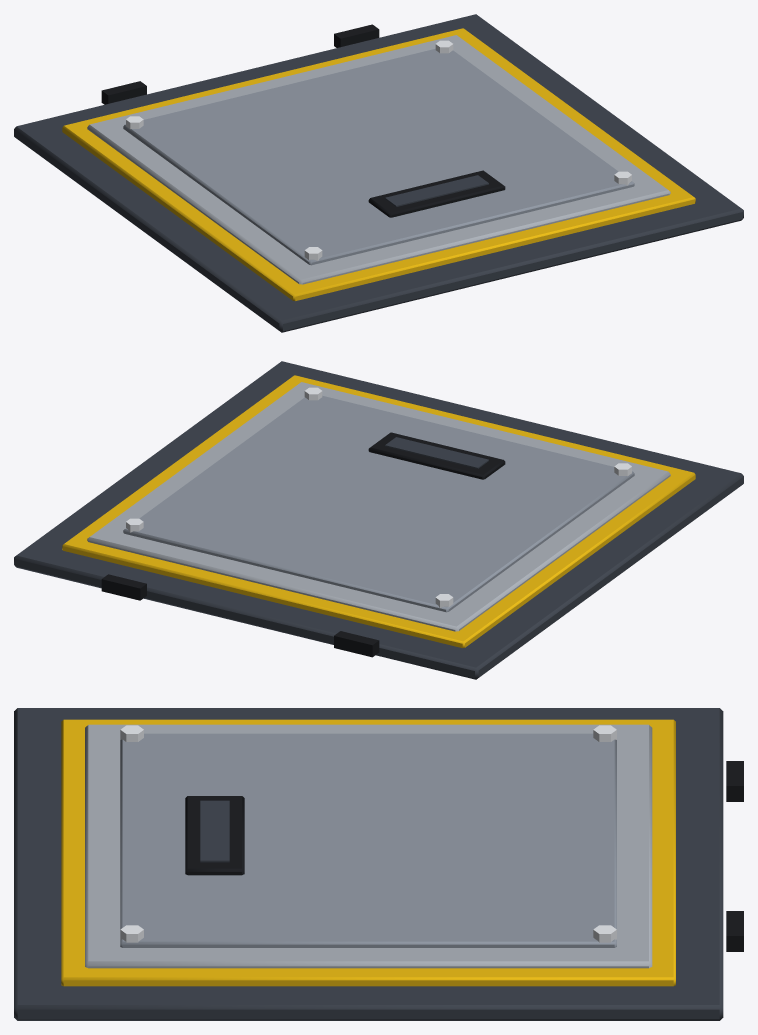
Rendered from hatch_floor_square_recessed.glb.
The picture shows the model from 3 angles, top to bottom: view 1: azimuth 30°, elevation 25°; view 2: azimuth 150°, elevation 25°; view 3: azimuth 270°, elevation 25°; orthographic projection. The views are drawn at different scales.
Parts seen in each view (by area): view 1: hatch_floor_square_recessed; view 2: hatch_floor_square_recessed; view 3: hatch_floor_square_recessed.
Part boxes in pixels (x1,y1,x2,y2): hatch_floor_square_recessed: (14,14,743,332); hatch_floor_square_recessed: (14,361,743,679); hatch_floor_square_recessed: (14,708,743,1020).
Bounding box in the file's own units: 1.2 × 0.08 × 1.24.
